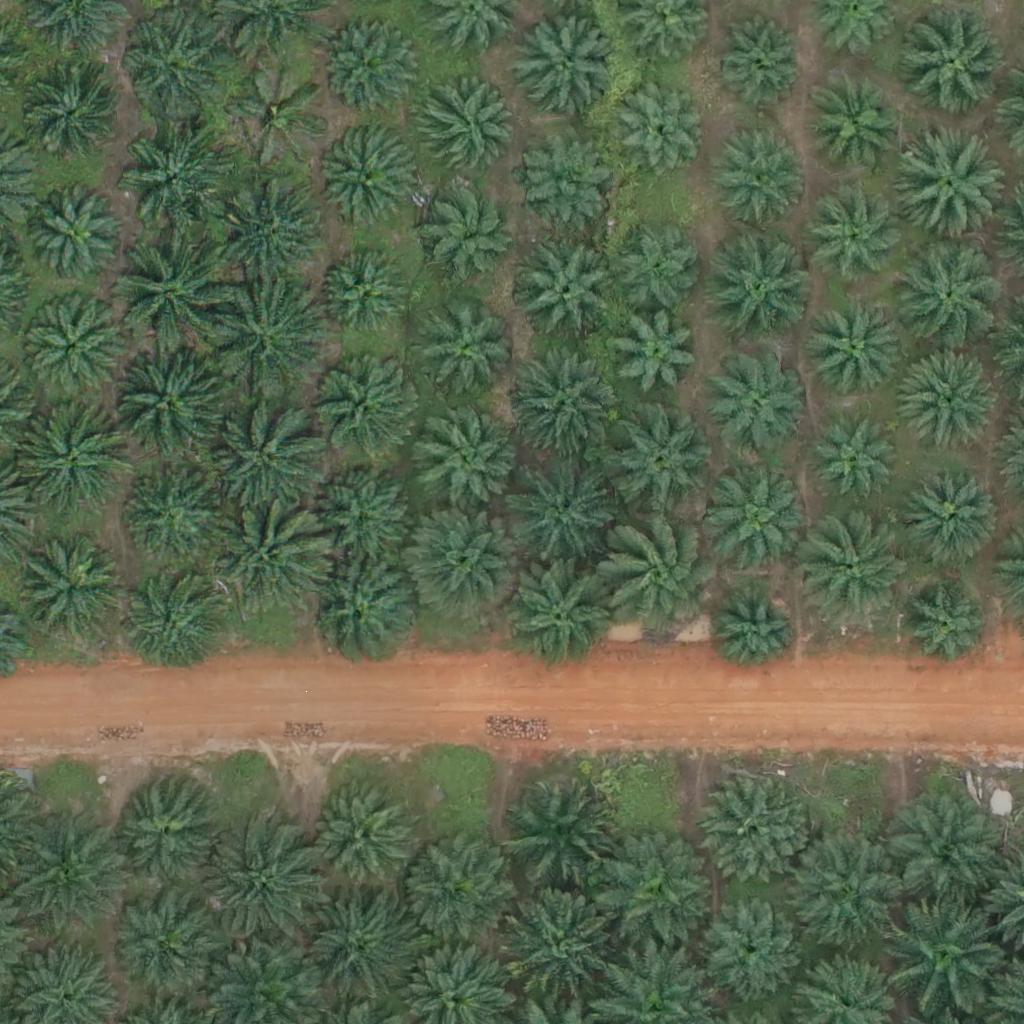Kelapa_Sawit: (601, 516, 726, 642), (896, 4, 1009, 118), (112, 344, 225, 458), (891, 896, 1004, 1009), (698, 777, 811, 890), (596, 838, 709, 951), (399, 834, 512, 947), (297, 893, 410, 1006), (109, 886, 222, 999), (2, 822, 115, 935), (889, 132, 1002, 245), (505, 353, 618, 466), (505, 454, 618, 567), (501, 561, 614, 674), (206, 398, 319, 511), (209, 169, 322, 282), (111, 238, 224, 351), (14, 402, 127, 515), (795, 834, 907, 948), (107, 776, 219, 890), (209, 283, 321, 397), (889, 797, 1001, 910), (508, 774, 620, 887), (501, 885, 613, 998), (205, 827, 317, 940), (892, 239, 1004, 352), (802, 513, 914, 626), (601, 405, 713, 518), (410, 509, 522, 622), (304, 555, 416, 668), (209, 503, 321, 616), (117, 117, 229, 230), (16, 539, 128, 652), (699, 891, 799, 992), (307, 787, 407, 888), (903, 465, 1003, 566), (806, 73, 906, 174), (808, 190, 908, 291), (804, 301, 904, 402), (709, 122, 809, 223), (708, 241, 808, 342), (705, 350, 805, 451), (517, 17, 617, 118), (521, 246, 621, 347), (414, 79, 514, 180), (419, 179, 519, 280), (415, 411, 515, 512), (320, 14, 420, 115), (317, 130, 417, 231), (316, 356, 416, 457), (120, 15, 220, 116), (124, 468, 224, 569), (121, 577, 221, 678), (21, 300, 121, 401), (902, 348, 1002, 448), (710, 473, 810, 573), (513, 129, 613, 229), (317, 458, 417, 558), (229, 65, 329, 165), (18, 74, 118, 174), (31, 194, 119, 283), (904, 588, 992, 676), (714, 15, 802, 103), (319, 255, 407, 343), (816, 416, 903, 505), (711, 588, 798, 676), (615, 83, 702, 171), (615, 224, 702, 312), (612, 312, 699, 400), (423, 307, 510, 395)
